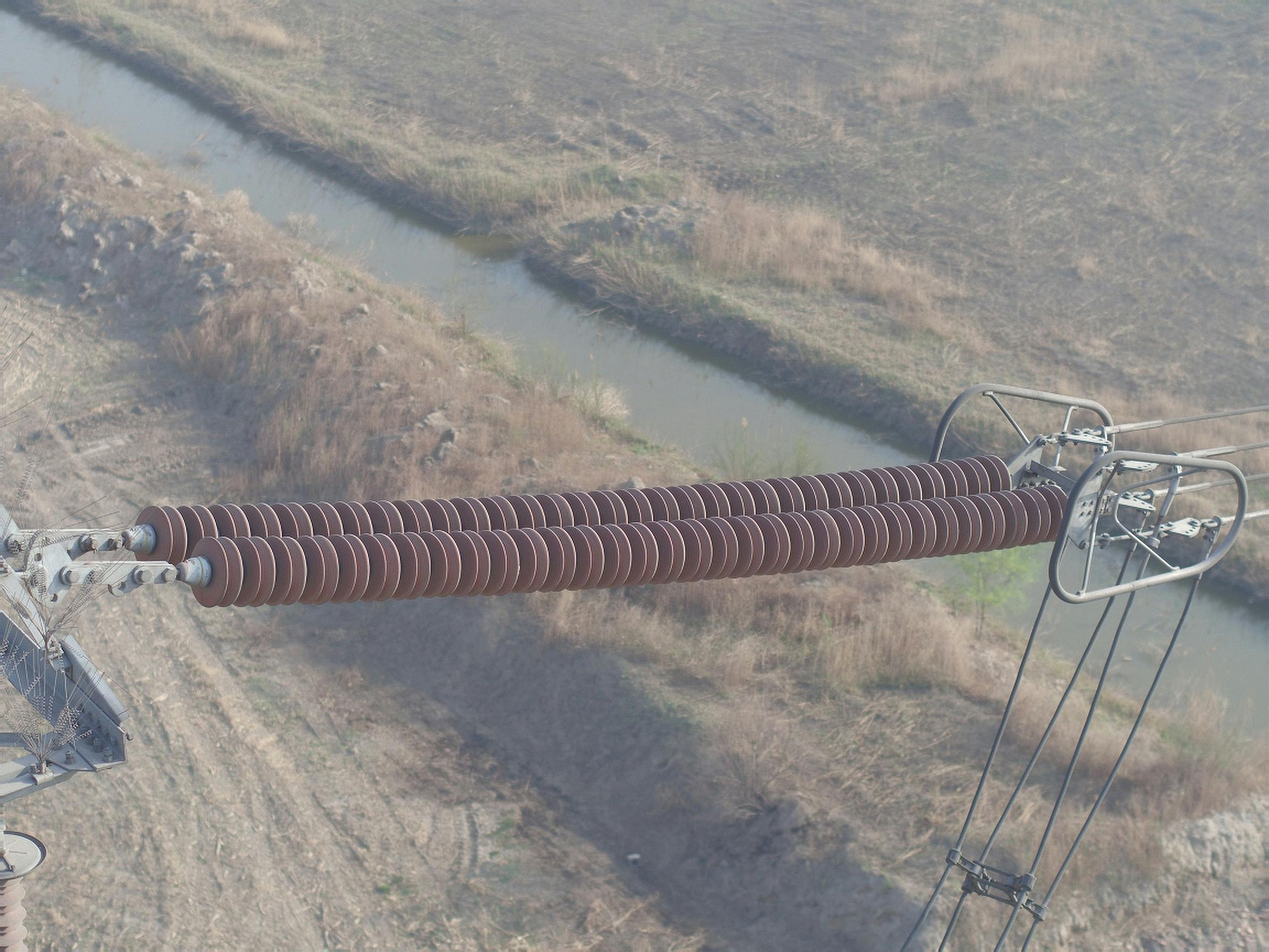insulator: (132, 449, 1078, 613)
